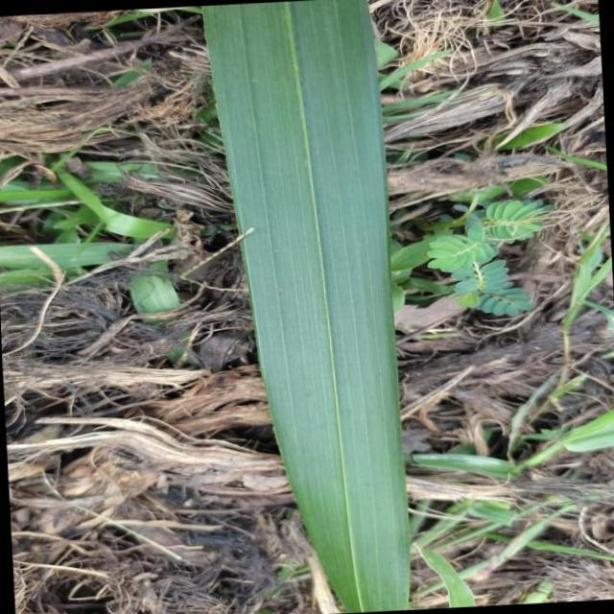Healthy: (202, 0, 412, 614)
